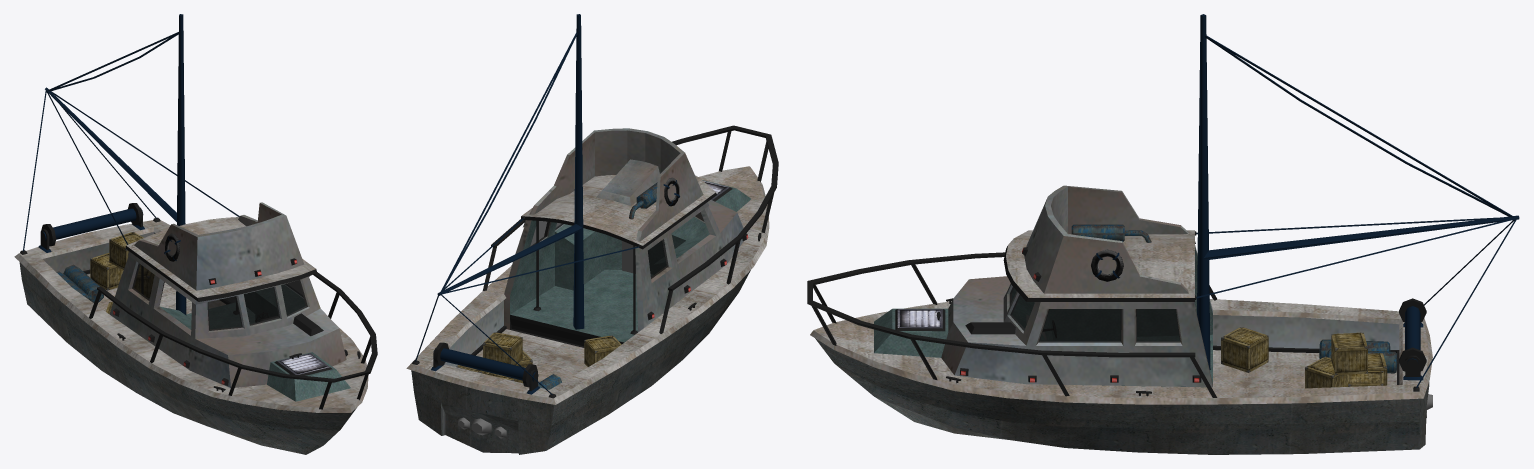
File: Ship_3.FBX
3 renders of one model, left to right at view 1: azimuth 30°, elevation 25°; view 2: azimuth 150°, elevation 25°; view 3: azimuth 270°, elevation 25°, orthographic. The views are drawn at different scales.
Visible parts, largest first — view 1: Body; view 2: Body; view 3: Body.
Boxes of the visible parts, <box> form: Body: <box>14,14,377,454</box>; Body: <box>406,14,778,454</box>; Body: <box>807,14,1519,454</box>.
Bounding box in the file's own units: 139 × 260 × 397.
2 materials, 1 textured.
